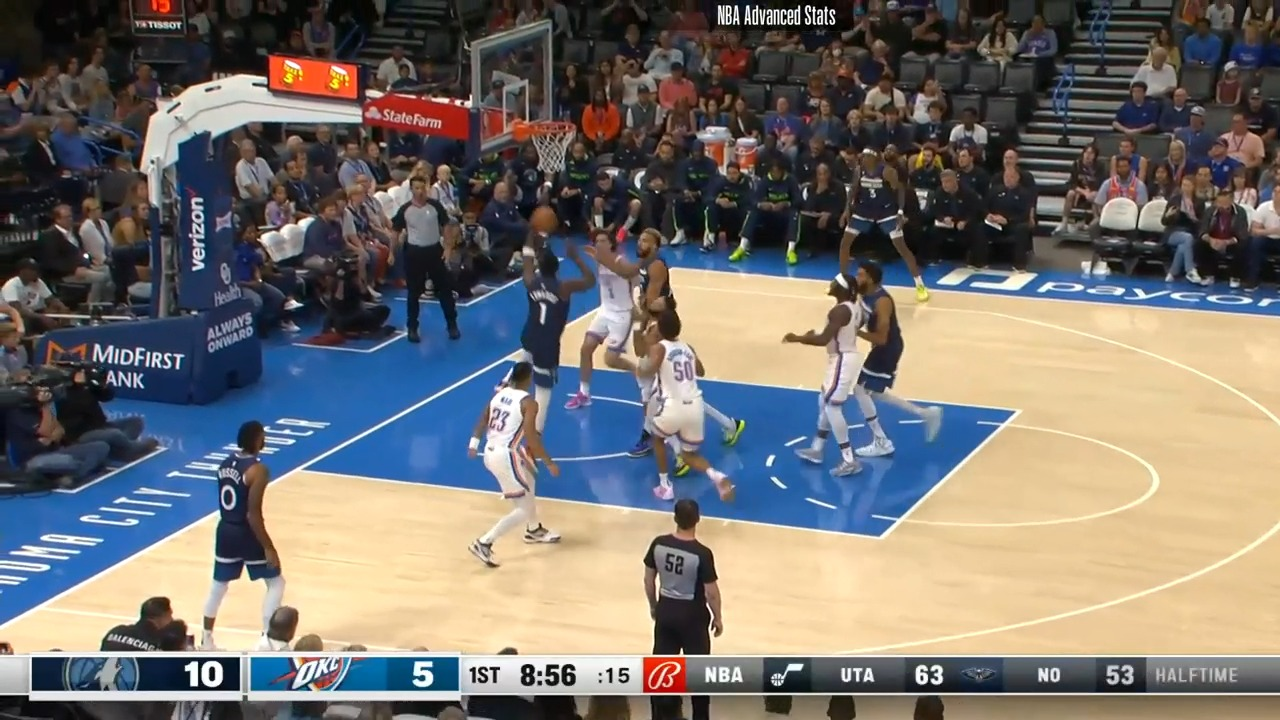net: (512, 112, 580, 175)
player: (790, 255, 898, 485), (470, 353, 571, 572), (555, 214, 663, 414), (493, 222, 594, 434), (211, 419, 300, 649), (641, 305, 740, 507), (846, 253, 933, 466), (832, 143, 932, 303), (615, 222, 683, 346)
referee: (647, 498, 733, 658), (387, 174, 464, 348)
